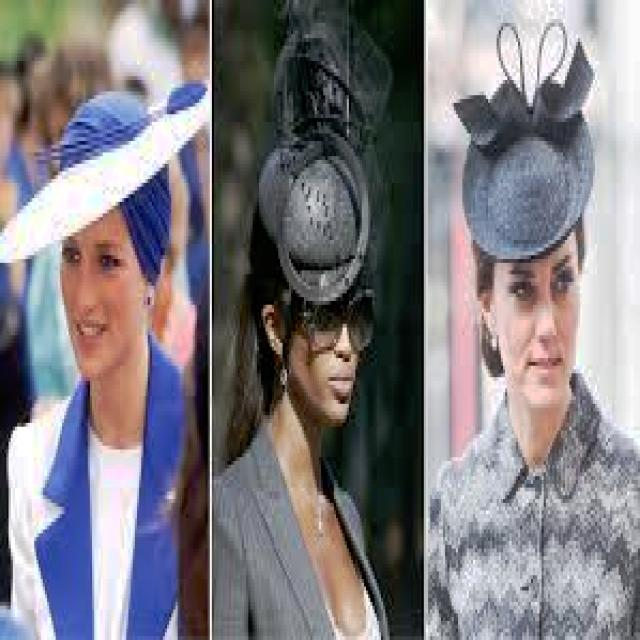TOPI: (251, 0, 398, 309), (0, 61, 212, 263), (446, 8, 600, 259)
